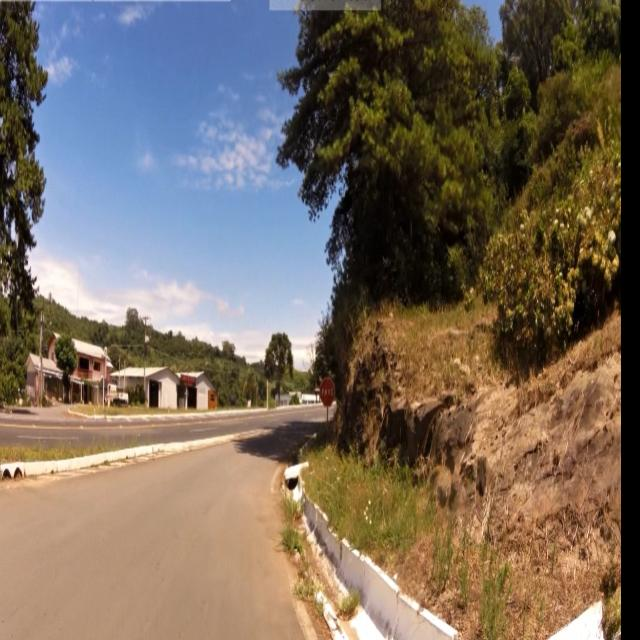R-1: (319, 378, 338, 410)
